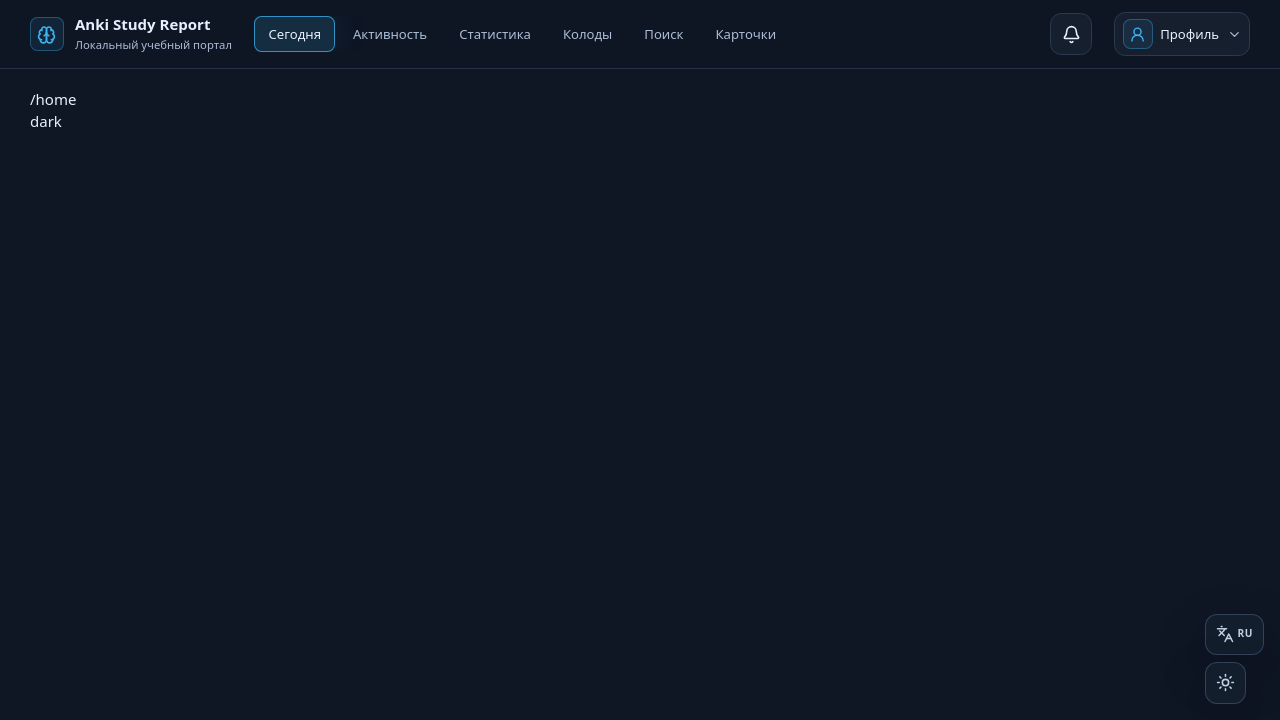
Test: AppLayout global utilities › keeps system-mode compatibility and preserves the theme and single dock across navigation
The width and height of the screenshot is (1280, 720).
Click the button with test id "theme-toggle" at (1226, 683), box x1=1205 y1=662 x2=1246 y2=704
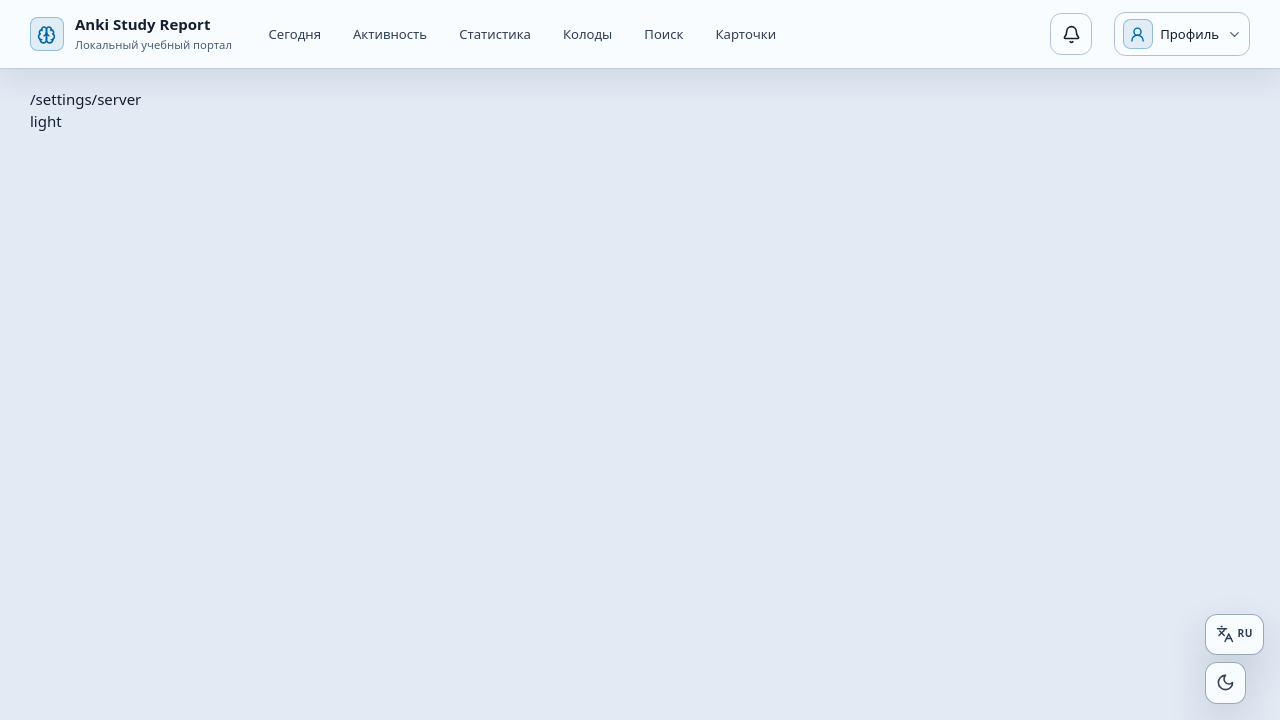
expect the number of buttons with test id "theme-toggle" is 1: met, box x1=1205 y1=662 x2=1246 y2=704
expect the text "light" is shown: met, box x1=30 y1=111 x2=62 y2=131
